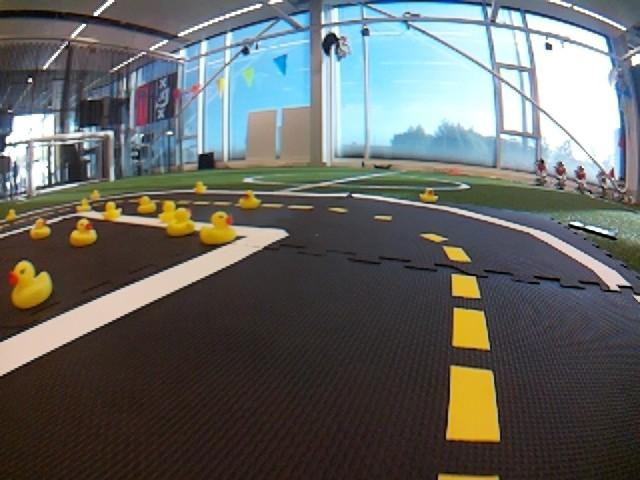Duckies: (10, 261, 52, 309), (199, 213, 238, 245), (163, 210, 195, 235), (71, 222, 98, 246), (157, 202, 183, 222), (237, 191, 260, 209), (31, 220, 50, 238), (101, 204, 121, 221), (137, 198, 157, 214), (418, 188, 437, 202), (76, 200, 92, 212), (193, 182, 206, 192), (6, 211, 17, 221), (90, 190, 102, 197), (89, 192, 100, 199)
